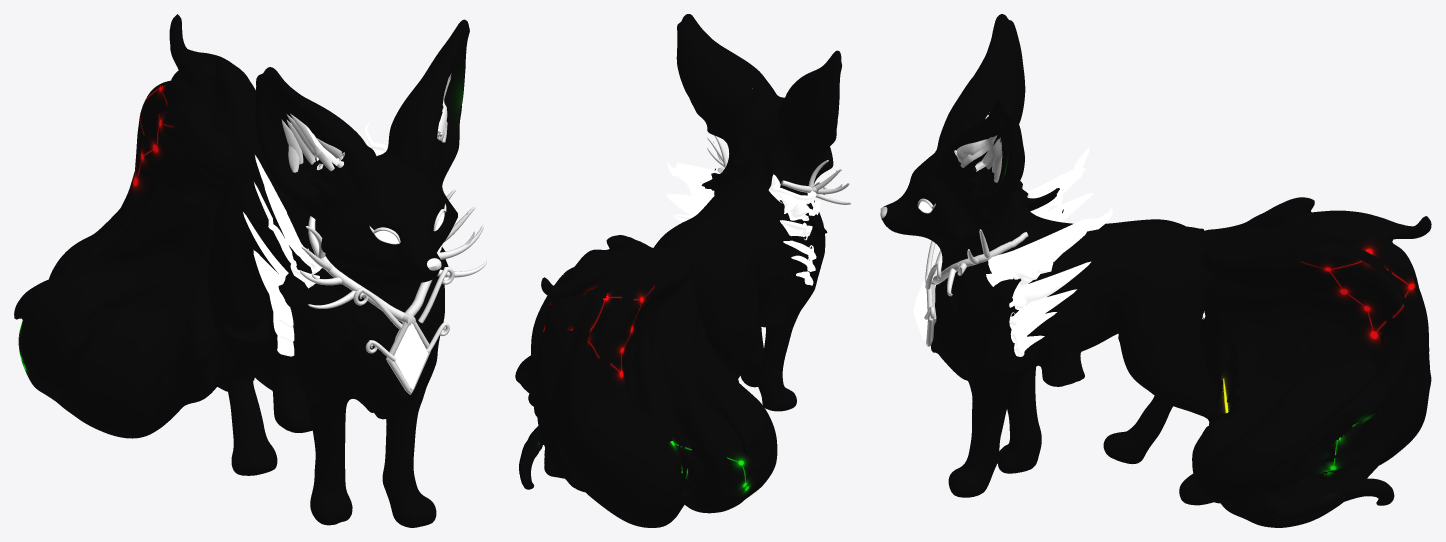
File: lumina_warden.glb
3 views of the same model, side by side, from view 1: azimuth 30°, elevation 25°; view 2: azimuth 150°, elevation 25°; view 3: azimuth 270°, elevation 25° (orthographic). The views are drawn at different scales.
Parts seen in each view (by area): view 1: lumina_warden; view 2: lumina_warden; view 3: lumina_warden.
Boxes of the visible parts, box(x1,y1,x2,y2) form: lumina_warden: box(14, 14, 486, 527); lumina_warden: box(515, 14, 851, 527); lumina_warden: box(880, 14, 1431, 527).
Bounding box in the file's own units: 0.7378 × 0.9993 × 1.17.
Materials: 10 (3 with a texture image).
